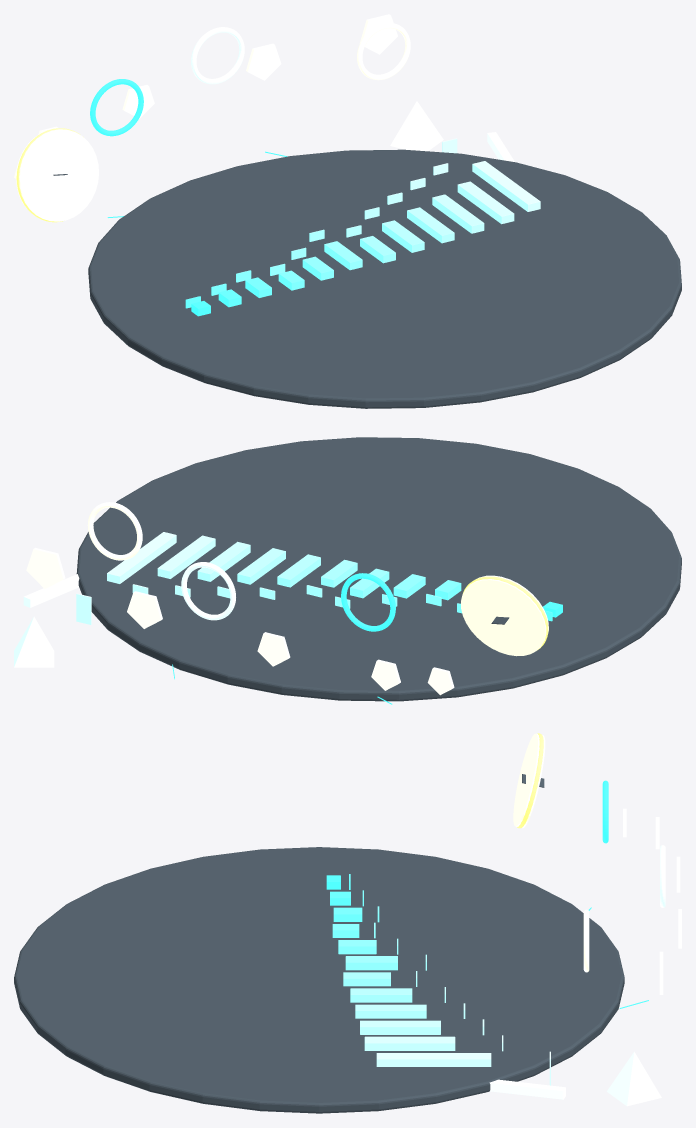
File: growth-sales.glb
The picture shows the model from 3 angles, top to bottom: view 1: azimuth 30°, elevation 25°; view 2: azimuth 150°, elevation 25°; view 3: azimuth 270°, elevation 25°; orthographic projection. The views are drawn at different scales.
Visible parts, largest first — view 1: Platform, ZARCoin, ArrowHead, Bar_11, Bar_10, Indicator_0, Indicator_1, Indicator_2, Bar_9, GoldStar_3, GoldStar_4, Bar_8 (+3 smaller); view 2: Platform, ZARCoin, ArrowHead, Bar_11, GoldStar_4, Bar_10, Indicator_0, Indicator_2, Indicator_1, GoldStar_3, Bar_9, Bar_8 (+9 smaller); view 3: Platform, Bar_11, ArrowHead, ZARCoin, Bar_10, Bar_9, Bar_8, ArrowShaft, Bar_7, Bar_5, Bar_6, Bar_4.
Boxes of the visible parts, x1,y1,x2,y2 form: Platform: [88, 149, 681, 408]; ZARCoin: [16, 129, 98, 221]; ArrowHead: [390, 101, 443, 151]; Bar_11: [472, 161, 540, 211]; Bar_10: [457, 181, 514, 224]; Indicator_0: [191, 27, 244, 84]; Indicator_1: [90, 79, 143, 136]; Indicator_2: [357, 23, 410, 80]; Bar_9: [432, 194, 484, 233]; GoldStar_3: [246, 43, 281, 80]; GoldStar_4: [359, 14, 397, 54]; Bar_8: [407, 207, 454, 243]; Platform: [76, 437, 681, 701]; ZARCoin: [461, 575, 548, 656]; ArrowHead: [14, 616, 54, 667]; Bar_11: [107, 532, 176, 583]; GoldStar_4: [26, 547, 65, 588]; Bar_10: [157, 535, 215, 578]; Indicator_0: [181, 562, 235, 620]; Indicator_2: [87, 502, 142, 560]; Indicator_1: [341, 573, 395, 631]; GoldStar_3: [127, 591, 162, 628]; Bar_9: [197, 541, 250, 581]; Bar_8: [237, 548, 285, 584]; Platform: [14, 847, 624, 1113]; Bar_11: [376, 1053, 491, 1066]; ArrowHead: [607, 1051, 661, 1106]; ZARCoin: [513, 733, 545, 828]; Bar_10: [364, 1036, 455, 1050]; Bar_9: [360, 1020, 440, 1034]; Bar_8: [355, 1004, 426, 1018]; ArrowShaft: [489, 1079, 565, 1099]; Bar_7: [350, 988, 412, 1002]; Bar_5: [345, 956, 397, 970]; Bar_6: [343, 972, 390, 986]; Bar_4: [338, 940, 376, 954].
Bounding box in the file's own units: 3.25 × 0.89 × 3.5.
